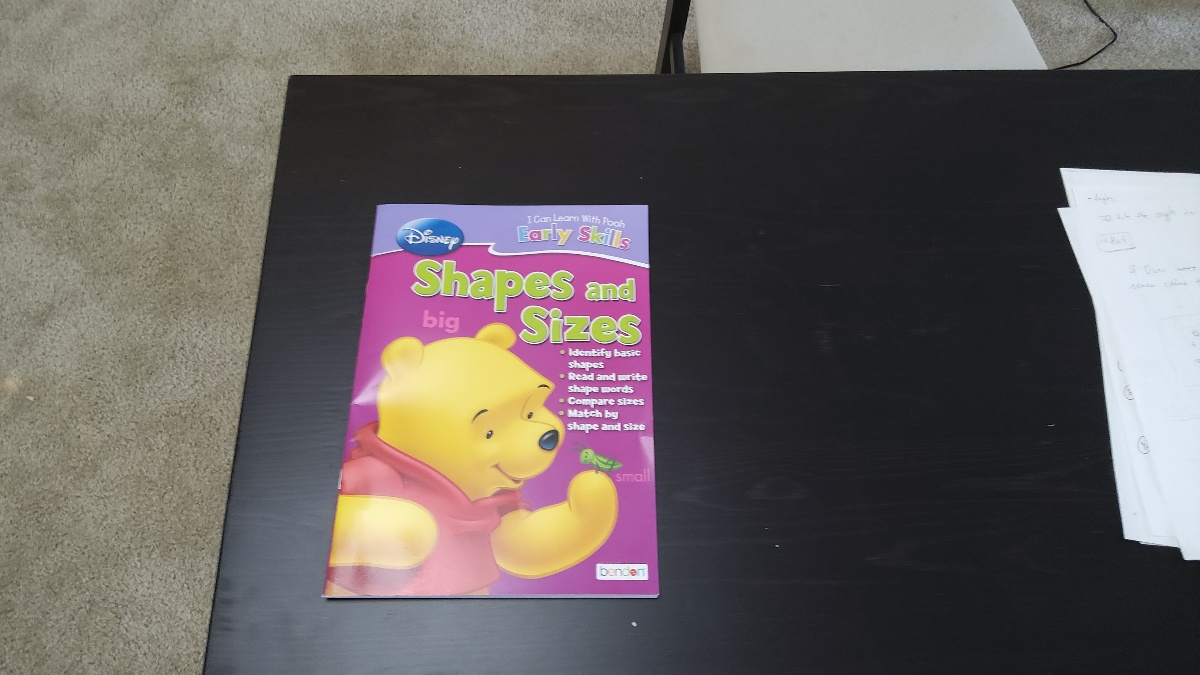book: (312, 194, 671, 604)
